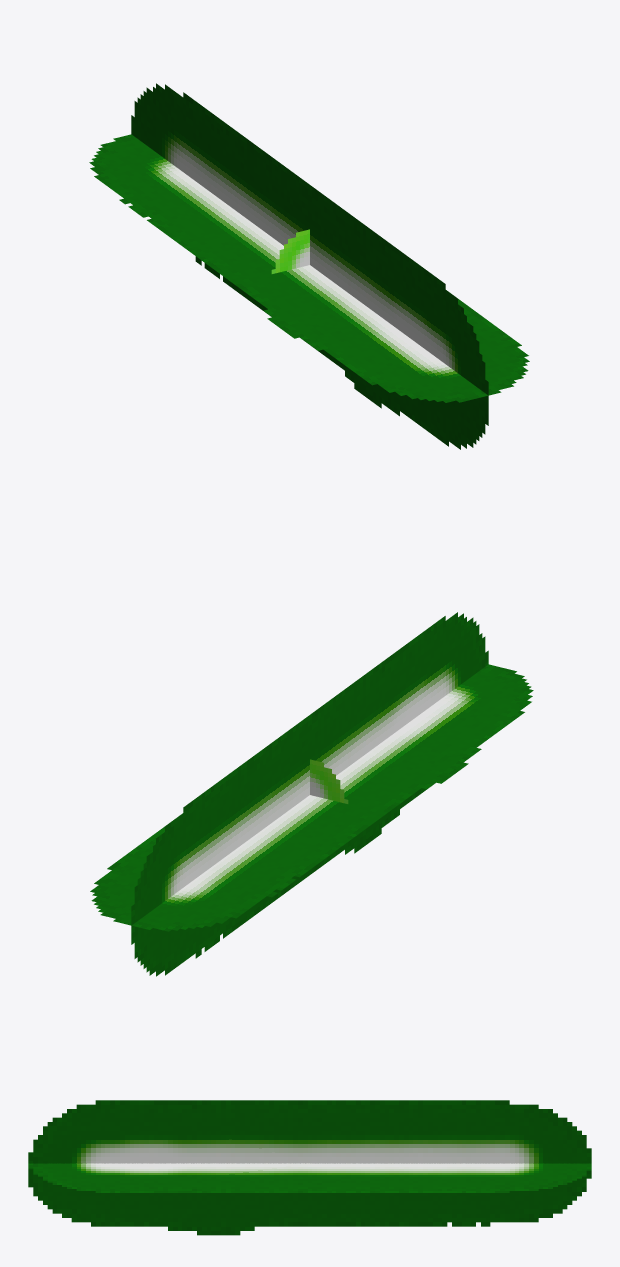
File: laser-bullet-green-small.gltf
3 renders of one model, top to bottom at view 1: azimuth 30°, elevation 25°; view 2: azimuth 150°, elevation 25°; view 3: azimuth 270°, elevation 25°, orthographic. The views are drawn at different scales.
Visible parts, largest first — view 1: plane (×3); view 2: plane (×3); view 3: plane (×2).
Boxes of the visible parts, bbox=[...] form: plane (×3): bbox=[89, 83, 529, 449]; plane (×3): bbox=[90, 612, 533, 976]; plane (×2): bbox=[28, 1100, 591, 1235].
Size of the model in its own units: 0.25 by 0.25 by 0.75.
1 material, 1 textured.
